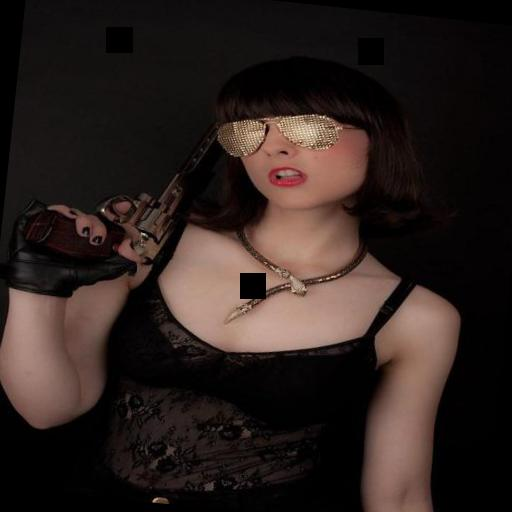Handgun: (14, 94, 236, 274)
